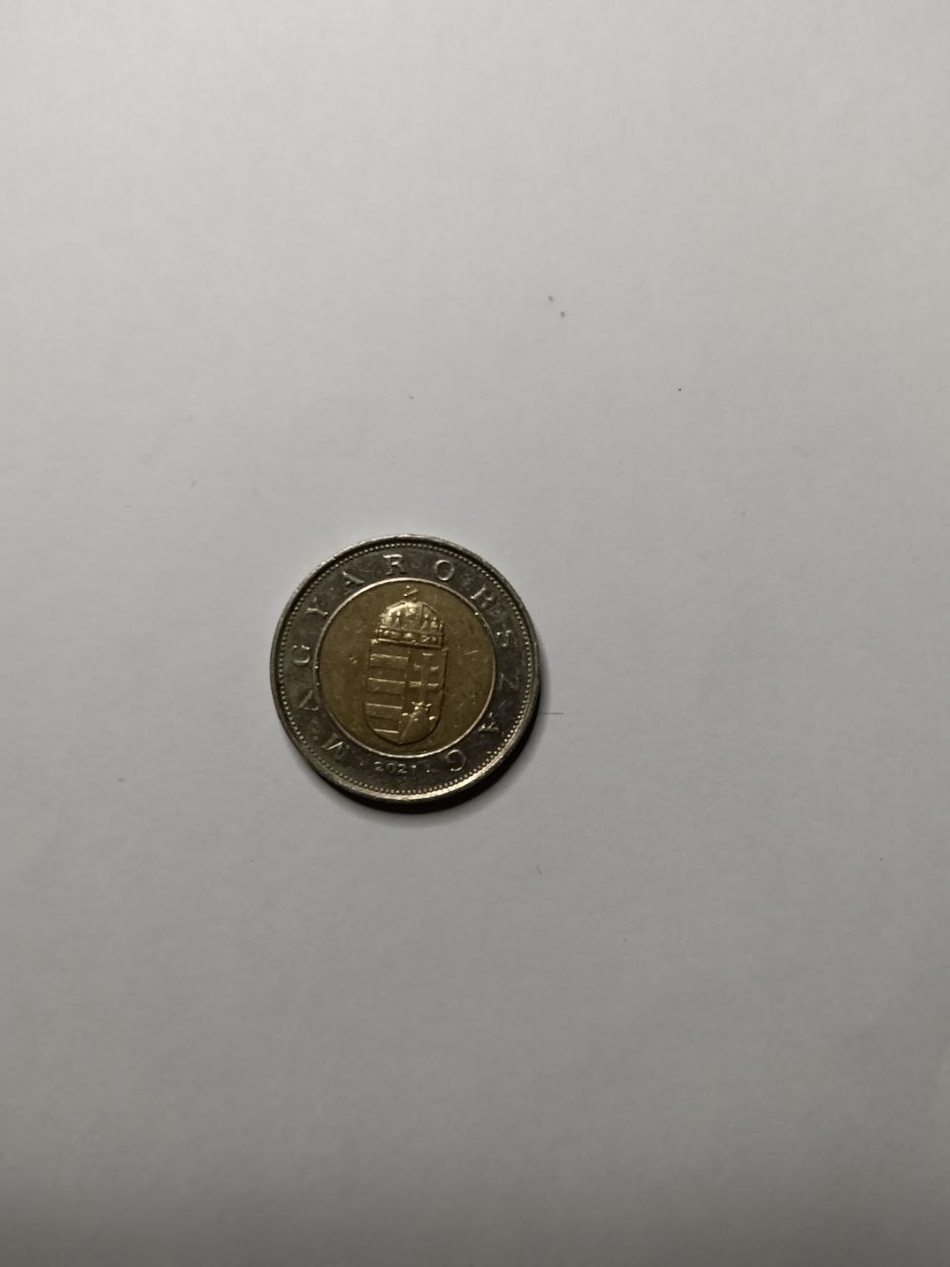100ft: (276, 541, 542, 805)
